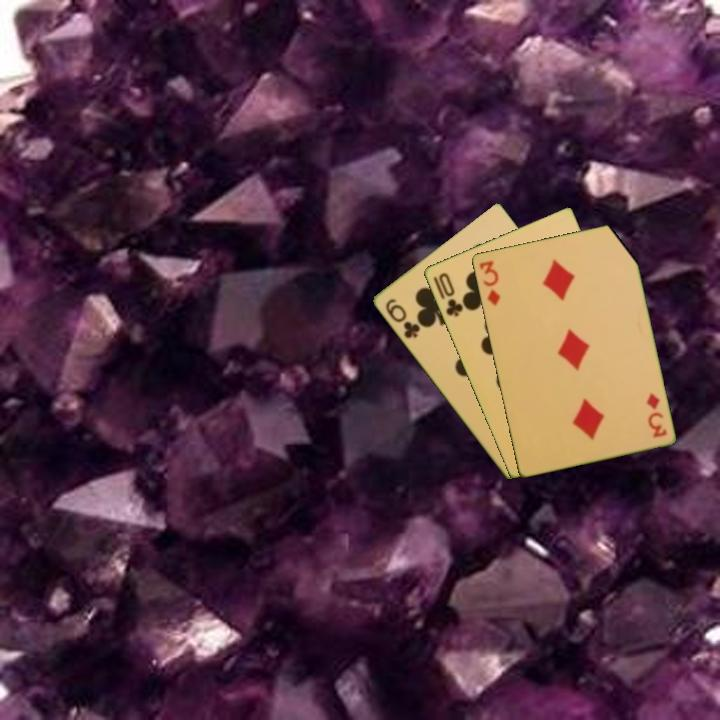10c: (435, 269, 466, 320)
3d: (475, 256, 503, 309), (643, 389, 669, 441)
6c: (382, 295, 423, 341)
